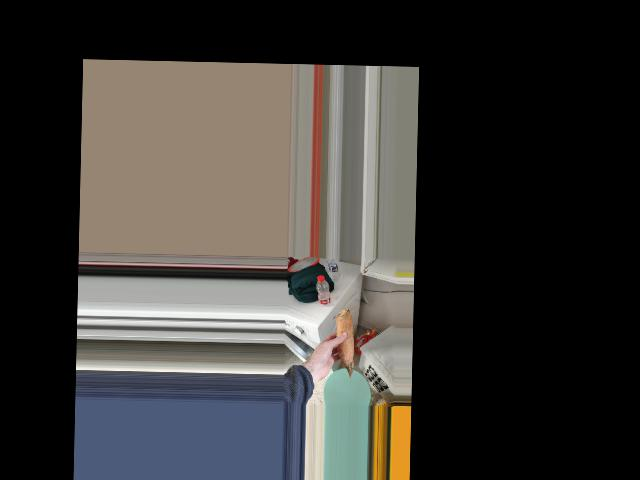sweet_potato: (330, 314, 354, 375)
